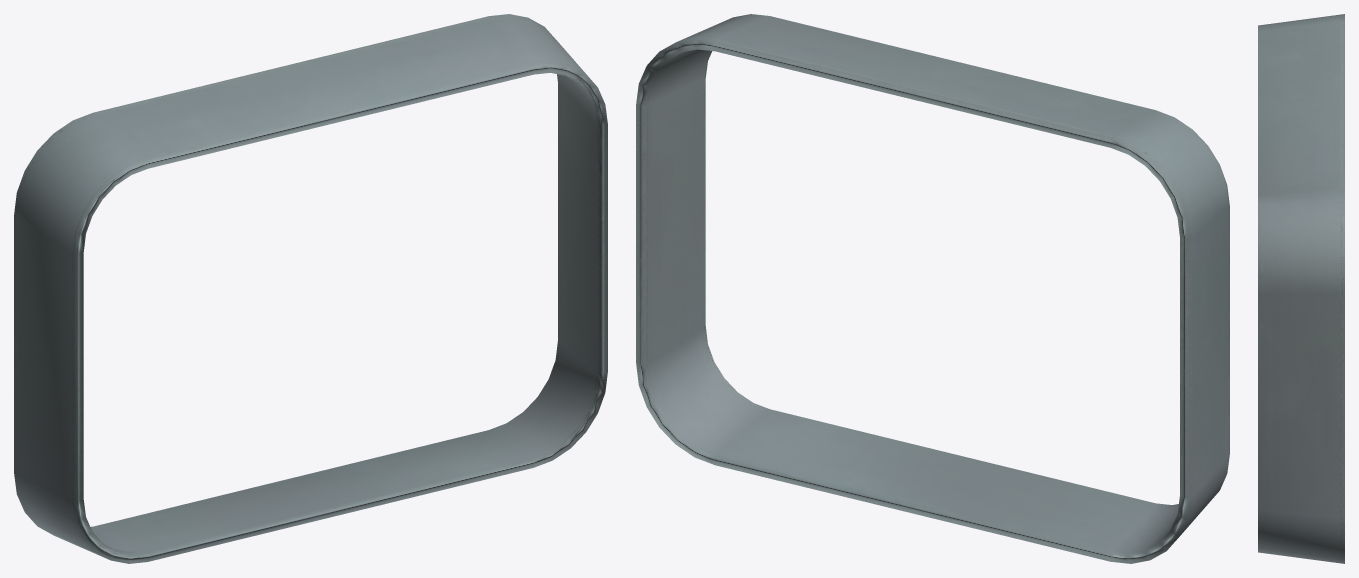
Rendered from SM_Carenage_Moteurs.glb.
3 renders of one model, left to right at view 1: azimuth 30°, elevation 25°; view 2: azimuth 150°, elevation 25°; view 3: azimuth 270°, elevation 25°, orthographic. The views are drawn at different scales.
Bounding box in the file's own units: 2 × 1.46 × 0.3125.
Materials: 1 (1 with a texture image).
